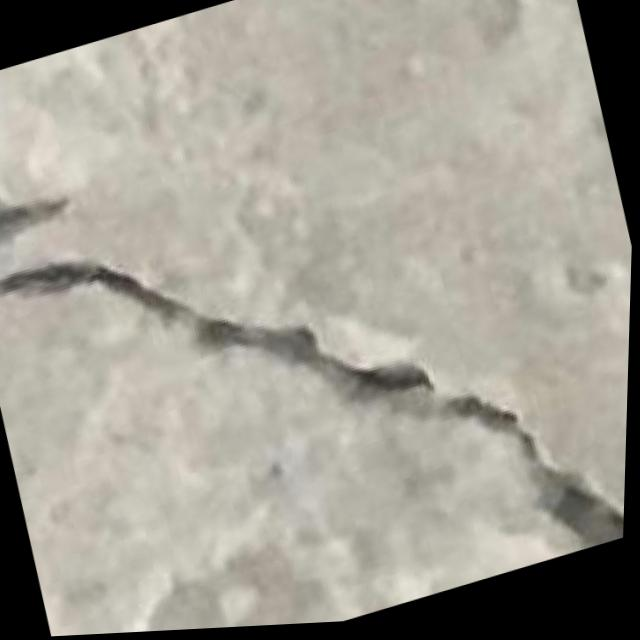Crack: (0, 107, 637, 640)
